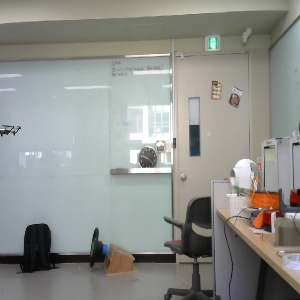Drone: (1, 119, 24, 140)
